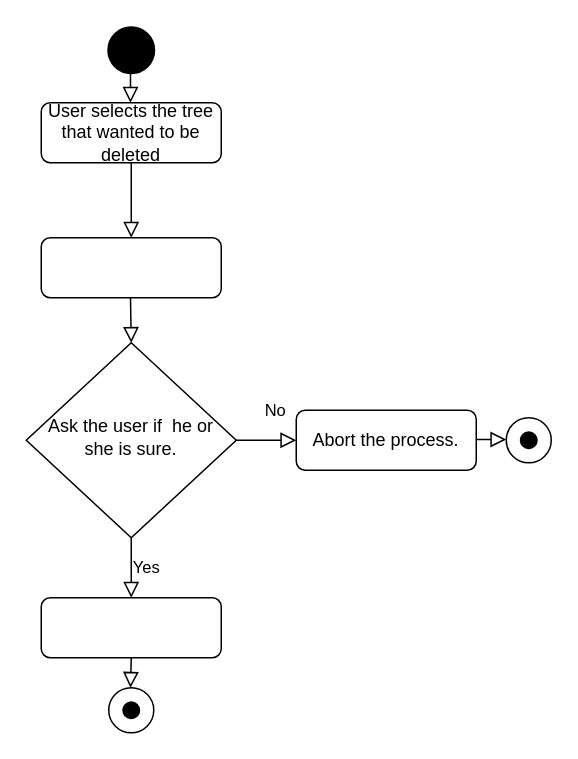
This 578x759 diagram has some shape labels left out. The box of each missing label's shape, as (x1, y1, x2, y2) in pixels:
Delete and save.: (40, 596, 221, 658)
Display confirmation message: (40, 236, 221, 298)
